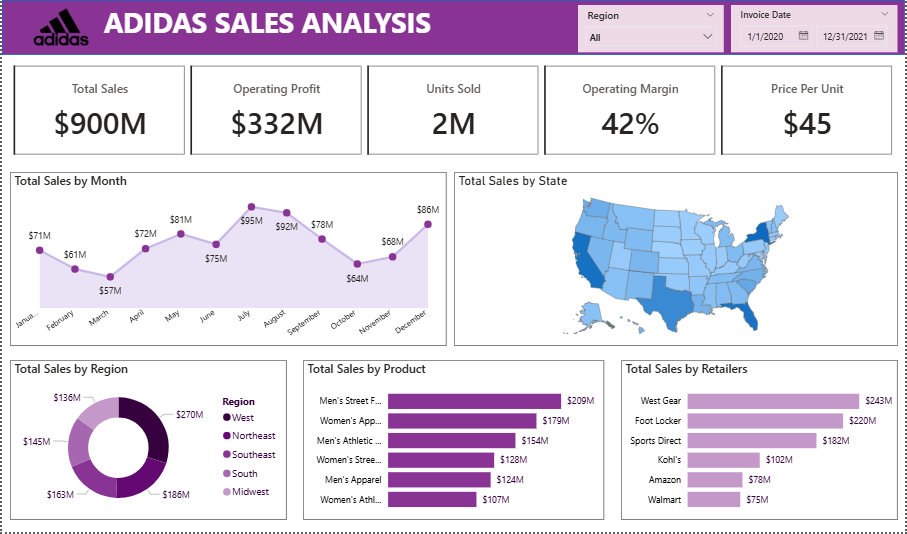

The dashboard page shown, as its layout file describes it:
{"tool":"powerbi","page":{"name":"Page 1","canvas":[1220,720],"ordinal":0},"visuals":[{"type":"shape","box":[0,0,1220.3,73.9],"z":0},{"type":"textbox","box":[37.7,0,641,73.8],"z":1},{"type":"image","box":[37.7,5.8,84.1,62.3],"z":2},{"type":"cardVisual","fields":{"Data":["Sum(Data Sales Adidas.Total Sales)","Sum(Data Sales Adidas.Operating Profit)","Sum(Data Sales Adidas.Units Sold)","Avg(Data Sales Adidas.Operating Margin)","Avg(Data Sales Adidas.Price per Unit)"]},"box":[10.1,84.1,1200,130.4],"z":3},{"type":"areaChart","title":"Total Sales by Month","fields":{"Category":["Data Sales Adidas.Invoice Date.Variation.Date Hierarchy.Month"],"Y":["Sum(Data Sales Adidas.Total Sales)"]},"box":[10.1,231.9,589.9,234.8],"z":4},{"type":"shapeMap","title":"Total Sales by State","fields":{"Category":["Data Sales Adidas.State"],"Value":["Sum(Data Sales Adidas.Total Sales)"]},"box":[610.1,231.9,600,234.8],"z":5},{"type":"donutChart","title":"Total Sales by Region","fields":{"Category":["Data Sales Adidas.Region"],"Y":["Sum(Data Sales Adidas.Total Sales)"]},"box":[10.1,487,373.9,215.9],"z":6},{"type":"barChart","title":"Total Sales by Product","fields":{"Category":["Data Sales Adidas.Product"],"Y":["Sum(Data Sales Adidas.Total Sales)"]},"box":[407.2,487,407.2,215.9],"z":7},{"type":"barChart","title":"Total Sales by Retailers","fields":{"Y":["Sum(Data Sales Adidas.Total Sales)"],"Category":["Data Sales Adidas.Retailer"]},"box":[836.2,487,373.9,215.9],"z":8},{"type":"slicer","fields":{"Values":["Data Sales Adidas.Region"]},"box":[778.4,6.5,197.1,64],"z":9},{"type":"slicer","fields":{"Values":["Data Sales Adidas.Invoice Date"]},"box":[984.9,6.5,225.2,64],"z":10}]}

Visuals, with their boxes in screenshot pixels (x1, y1, x2, y2), scaled from the page's 1220x720 canvas onto the 907x534 screenshot:
shape: region(0, 0, 906, 55)
textbox: region(28, 0, 505, 55)
image: region(28, 4, 91, 51)
cardVisual - Sum(Data Sales Adidas.Total Sales) x Sum(Data Sales Adidas.Operating Profit): region(8, 62, 900, 159)
"Total Sales by Month" areaChart: region(8, 172, 446, 346)
"Total Sales by State" shapeMap: region(454, 172, 900, 346)
"Total Sales by Region" donutChart: region(8, 361, 285, 521)
"Total Sales by Product" barChart: region(303, 361, 605, 521)
"Total Sales by Retailers" barChart: region(622, 361, 900, 521)
slicer - Data Sales Adidas.Region: region(579, 5, 725, 52)
slicer - Data Sales Adidas.Invoice Date: region(732, 5, 900, 52)
